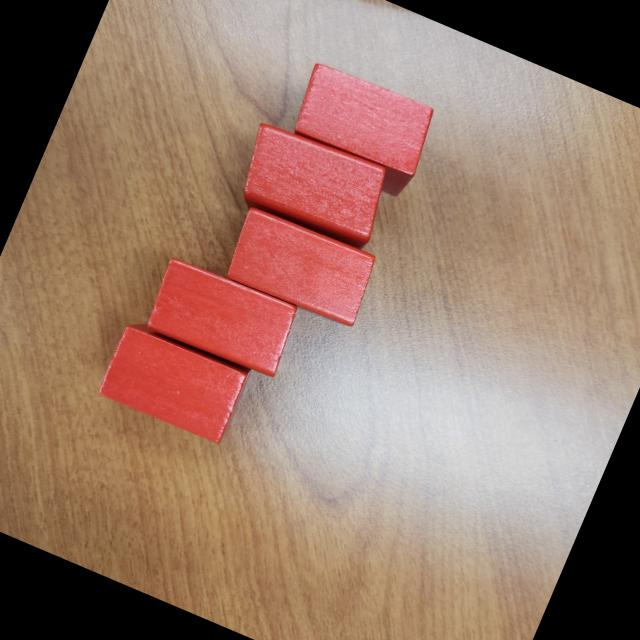red: (229, 115, 398, 254), (280, 58, 442, 202), (222, 202, 384, 331), (142, 253, 304, 381), (95, 318, 252, 448)
